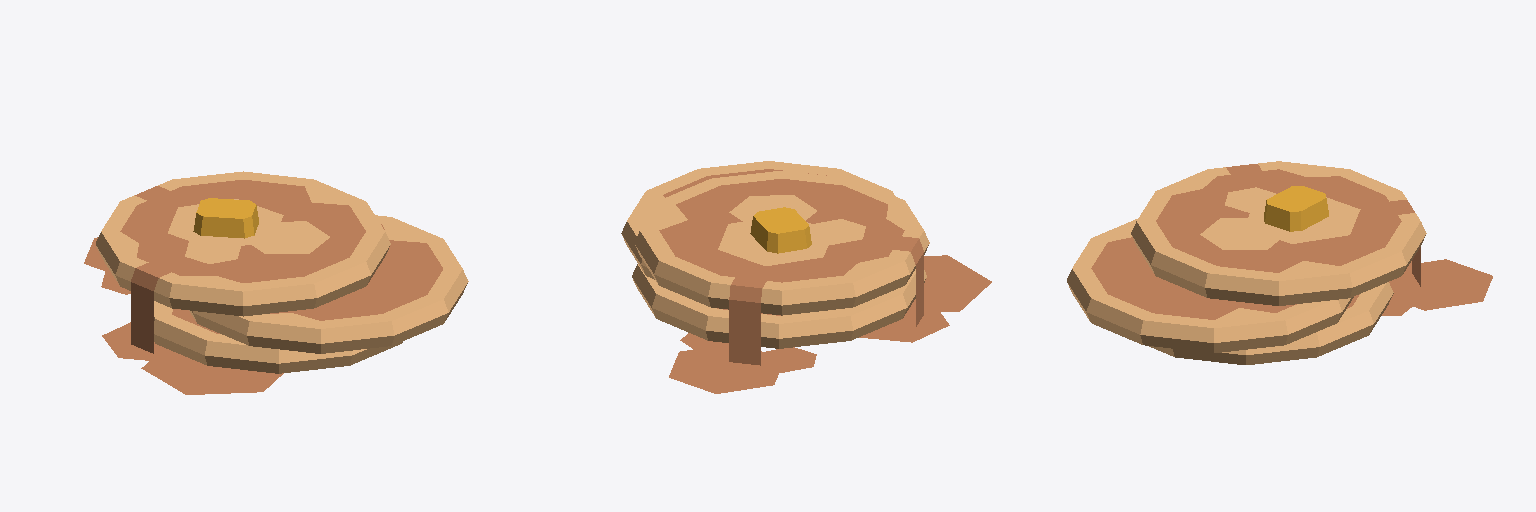
Rendered from pancakes.obj.
3 renders of one model, left to right at view 1: azimuth 30°, elevation 25°; view 2: azimuth 150°, elevation 25°; view 3: azimuth 270°, elevation 25°, orthographic.
Parts seen in each view (by area): view 1: pancake, pancakes, butter; view 2: pancake, pancakes, butter; view 3: pancake, pancakes, butter.
Part boxes in pixels (left/top/right/bottom): pancake: left=96, top=171, right=468, bottom=373; pancakes: left=84, top=237, right=283, bottom=394; butter: left=193, top=198, right=258, bottom=238; pancake: left=621, top=161, right=929, bottom=365; pancakes: left=669, top=255, right=991, bottom=393; butter: left=750, top=207, right=811, bottom=253; pancake: left=1067, top=161, right=1426, bottom=364; pancakes: left=1382, top=259, right=1492, bottom=315; butter: left=1264, top=186, right=1328, bottom=231.
Size of the model in its own units: 0.4355 by 0.1216 by 0.5039.